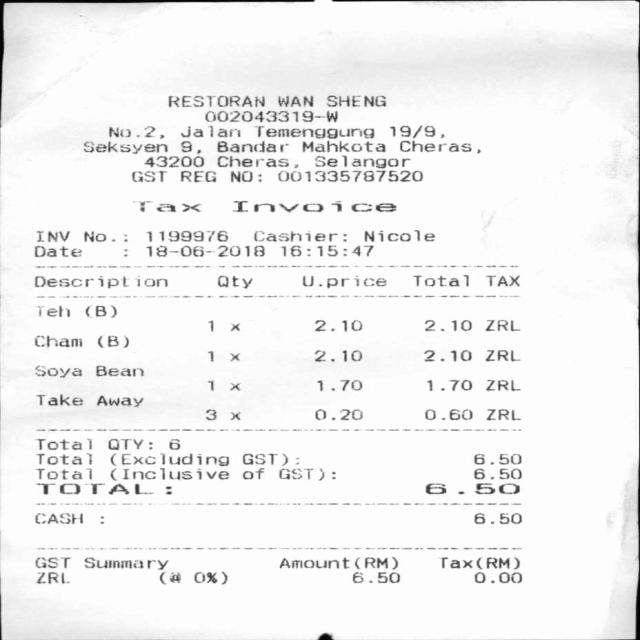text: (231, 200, 395, 212), (34, 275, 168, 288), (109, 452, 227, 466), (276, 170, 422, 181), (254, 125, 372, 138), (278, 556, 396, 569), (36, 483, 171, 494), (203, 110, 336, 121), (109, 468, 227, 480), (314, 154, 409, 168), (146, 245, 264, 256), (300, 275, 386, 288), (280, 244, 372, 256), (82, 140, 166, 153), (167, 95, 263, 106), (424, 482, 519, 493), (439, 556, 519, 569), (302, 140, 384, 152), (84, 557, 166, 569), (398, 140, 479, 152), (252, 230, 346, 240), (216, 156, 296, 167), (216, 140, 287, 152), (364, 229, 433, 241), (145, 230, 227, 240), (411, 274, 469, 287), (138, 200, 199, 212), (388, 125, 443, 138), (180, 125, 239, 137), (108, 125, 162, 138), (278, 468, 334, 480), (143, 156, 203, 167), (326, 95, 384, 106), (36, 453, 90, 464), (36, 468, 90, 479), (33, 365, 80, 377), (473, 512, 520, 524), (35, 438, 91, 448), (241, 453, 287, 465), (36, 393, 81, 405), (34, 512, 82, 523), (313, 320, 360, 331), (33, 335, 80, 346), (313, 350, 360, 361), (96, 365, 142, 376), (96, 395, 142, 406), (473, 453, 519, 464), (107, 438, 152, 449), (423, 409, 471, 419), (314, 409, 361, 419), (473, 572, 520, 582), (193, 570, 226, 584), (34, 246, 80, 256), (473, 468, 519, 478), (352, 572, 398, 582), (424, 320, 469, 330), (424, 350, 469, 360), (316, 380, 361, 390), (426, 380, 471, 390), (218, 275, 252, 288), (36, 304, 70, 317), (179, 170, 215, 182), (83, 231, 126, 241), (131, 170, 166, 182), (84, 304, 116, 317), (34, 556, 68, 568), (35, 571, 68, 583), (484, 275, 519, 286), (277, 95, 311, 106), (485, 408, 519, 419), (96, 335, 127, 347), (35, 230, 68, 241), (484, 320, 519, 330), (484, 350, 519, 360), (484, 380, 519, 390), (230, 170, 259, 182), (158, 571, 179, 583), (180, 140, 199, 153), (241, 468, 262, 478), (228, 322, 241, 331), (228, 382, 240, 391), (168, 438, 178, 448), (207, 378, 214, 391), (205, 409, 214, 419), (207, 320, 214, 332), (207, 350, 214, 362), (229, 353, 237, 361), (230, 412, 239, 419)
